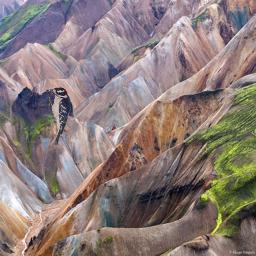Woodpecker: (46, 86, 72, 145)
